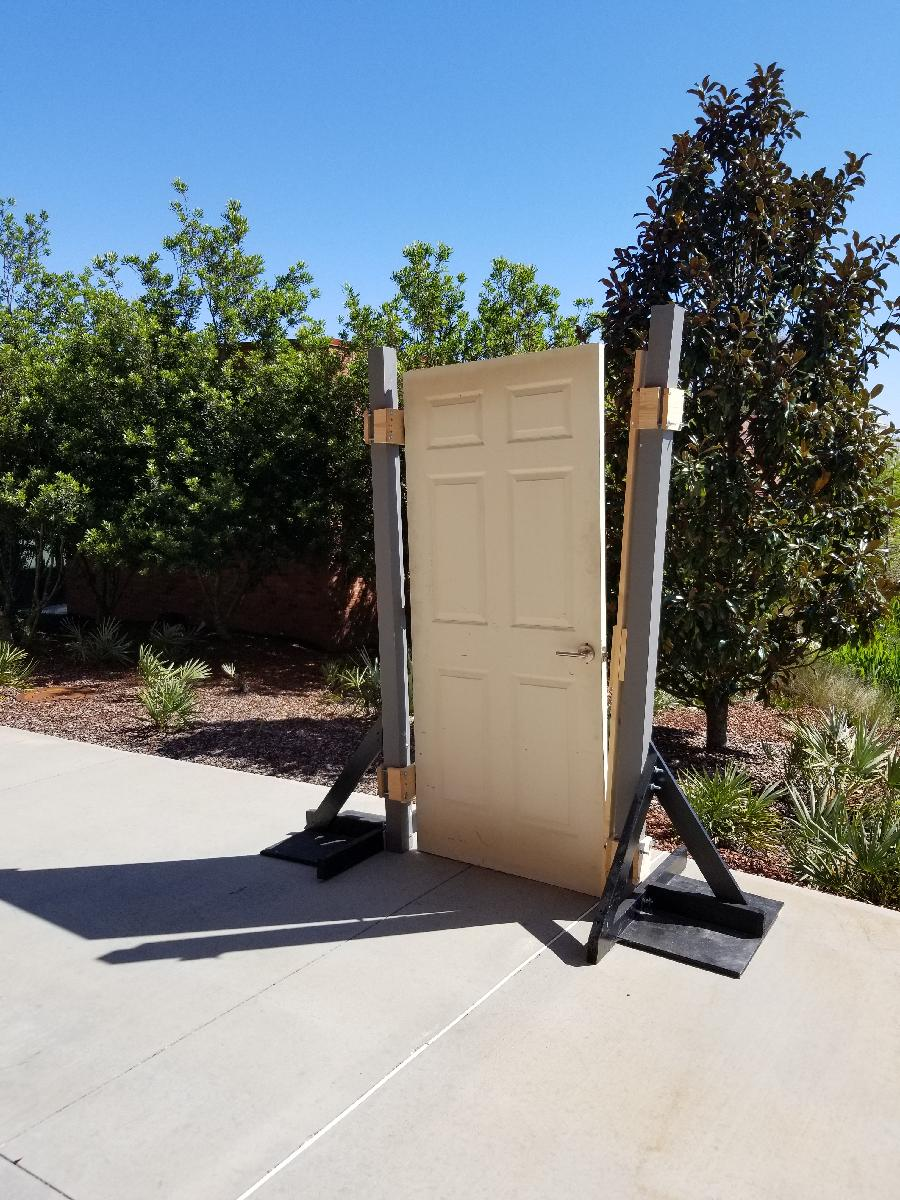door: (394, 338, 618, 903)
doorHandle: (549, 642, 600, 668)
